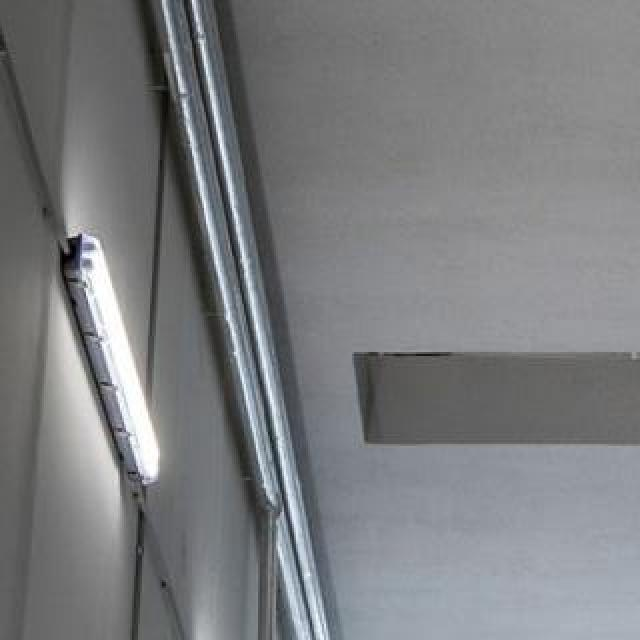fluorescent tube: (40, 213, 187, 511)
